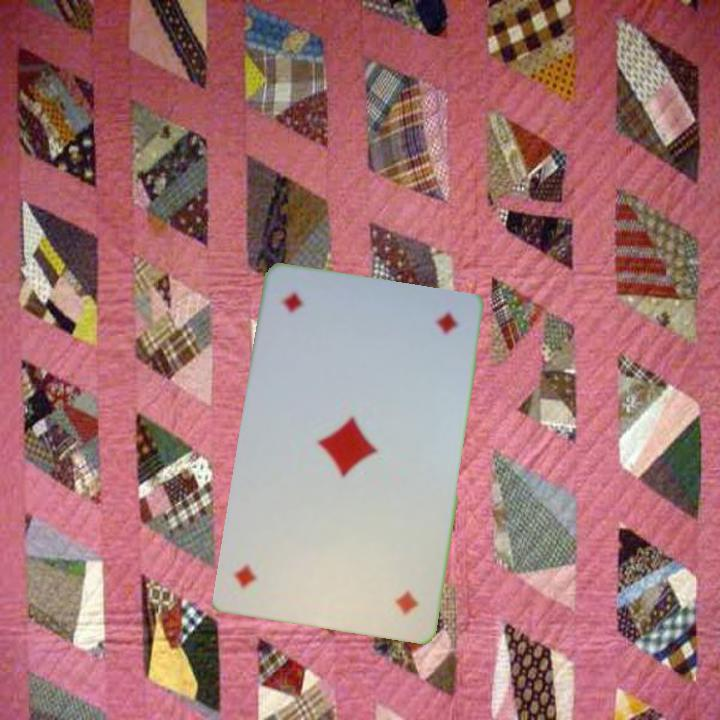d_a.png: (322, 527, 434, 627), (267, 279, 378, 379)
